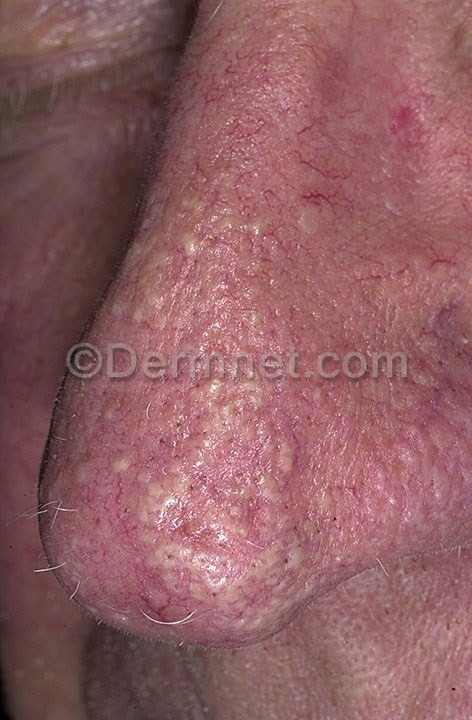Melasma: (121, 0, 291, 56)
